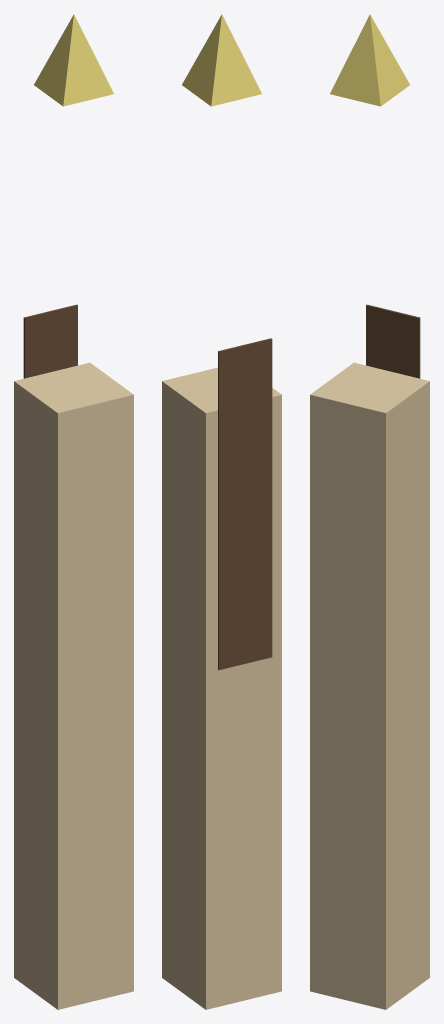
File: PROP_Obelisk.fbx
3 renders of one model, left to right at view 1: azimuth 30°, elevation 25°; view 2: azimuth 210°, elevation 25°; view 3: azimuth 330°, elevation 25°, orthographic.
Parts seen in each view (by area): view 1: PROP_Obelisk, PROP_Obelisk_Cap, PROP_Obelisk_Engrave; view 2: PROP_Obelisk, PROP_Obelisk_Engrave, PROP_Obelisk_Cap; view 3: PROP_Obelisk, PROP_Obelisk_Cap, PROP_Obelisk_Engrave.
Part boxes in pixels (left/top/right/bottom): PROP_Obelisk: left=14, top=362, right=133, bottom=1009; PROP_Obelisk_Cap: left=34, top=14, right=113, bottom=106; PROP_Obelisk_Engrave: left=23, top=304, right=77, bottom=378; PROP_Obelisk: left=162, top=367, right=281, bottom=1009; PROP_Obelisk_Engrave: left=218, top=338, right=272, bottom=669; PROP_Obelisk_Cap: left=182, top=14, right=261, bottom=106; PROP_Obelisk: left=310, top=362, right=429, bottom=1009; PROP_Obelisk_Cap: left=330, top=14, right=409, bottom=106; PROP_Obelisk_Engrave: left=366, top=304, right=420, bottom=378.
Bounding box in the file's own units: 40 × 488 × 41.5.
